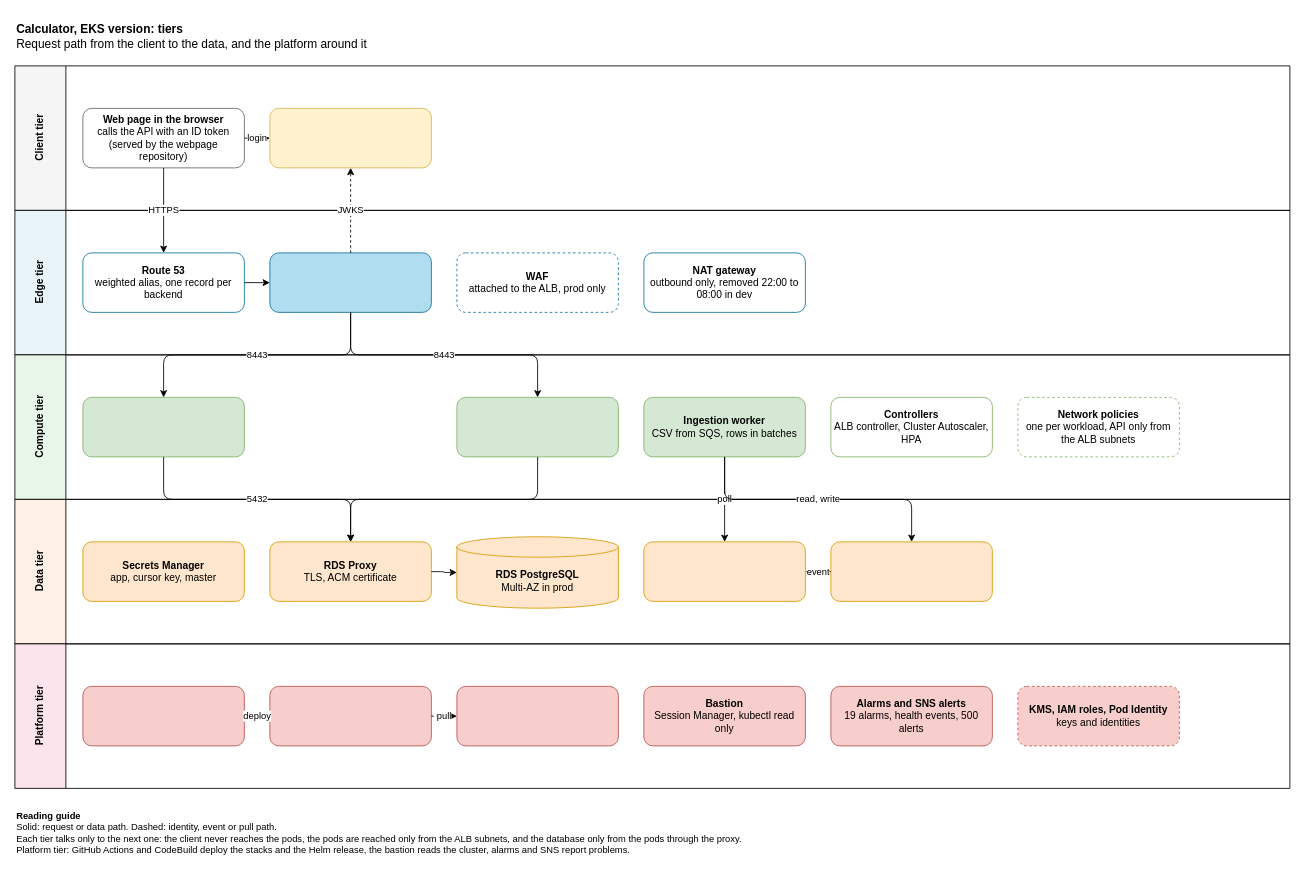
The diagram is 1305 pixels wide and 887 high, and some of its shapes have lost their labels. The centre of each missing label's shape, as x and y in pixels:
"Calculation services add, sub, mul, div" goes at point 163,427.
"CodeBuild in the VPC Helm install, migration Job" goes at point 350,716.
"Cognito user pool login, ID token (JWT), JWKS" goes at point 350,138.
"ECR one image, by digest" goes at point 537,716.
"GitHub Actions OIDC, CloudFormation stacks" goes at point 163,716.
"History service signed cursor, paging" goes at point 537,427.
"Internet-facing ALB TLS 1.3, 80 to 443, JWT validation, fixed 404" goes at point 350,282.
"S3 ingestion bucket incoming, processed, rejected, reports" goes at point 911,571.
"SQS queue and DLQ redrive after 3 receives" goes at point 724,571.
